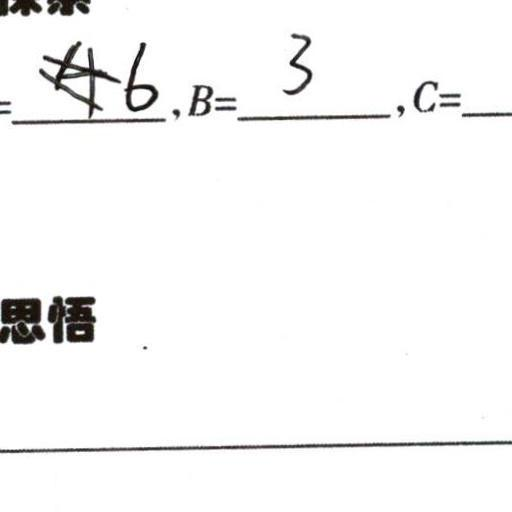ans: (122, 39, 161, 114), (277, 26, 315, 98)
